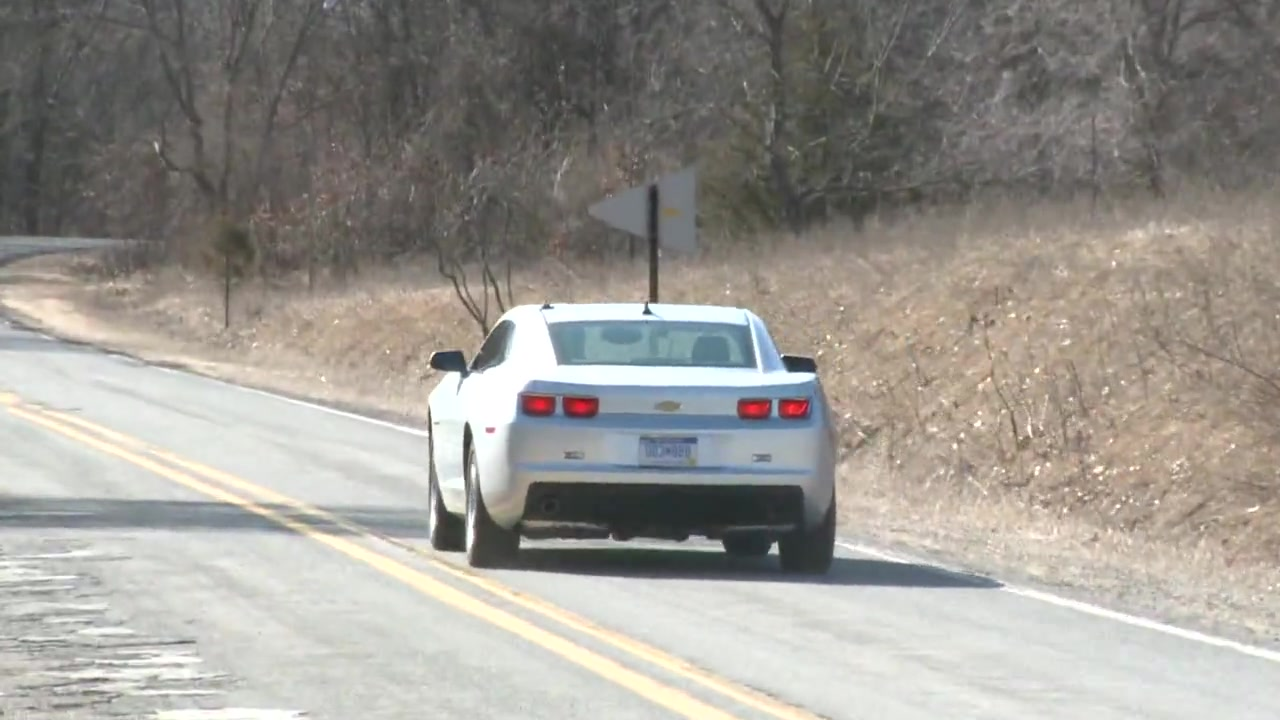car: (420, 305, 839, 575)
